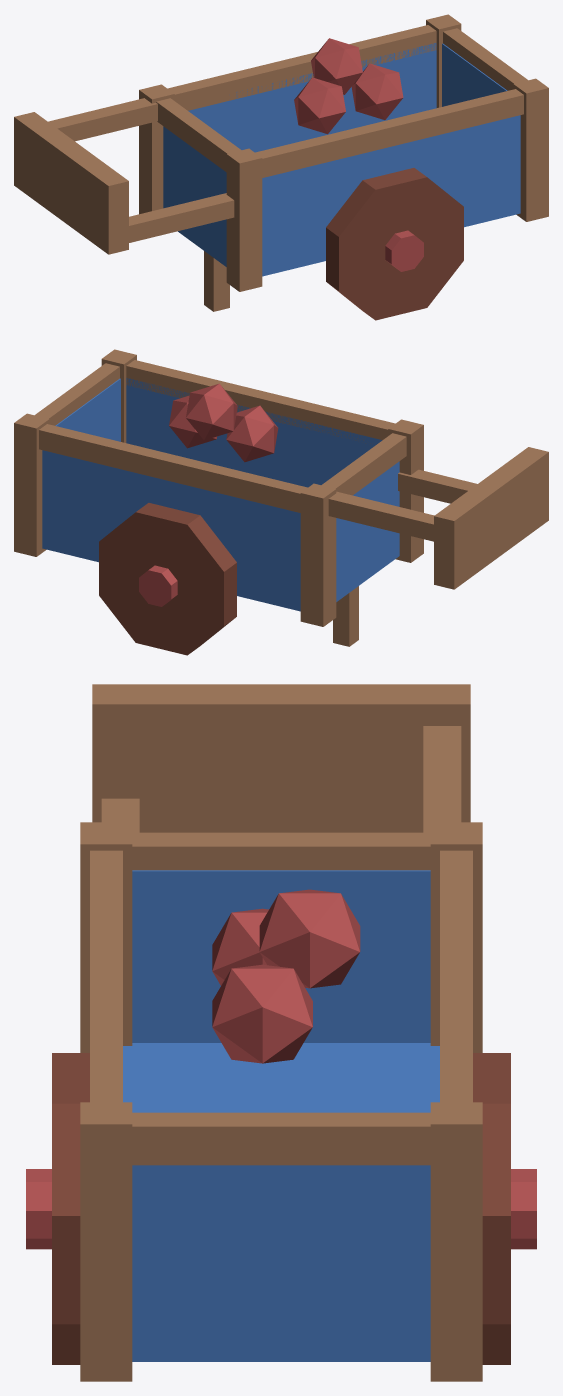
Rendered from cart.glb.
The picture shows the model from 3 angles, top to bottom: view 1: azimuth 30°, elevation 25°; view 2: azimuth 150°, elevation 25°; view 3: azimuth 270°, elevation 25°; orthographic projection. The views are drawn at different scales.
Parts seen in each view (by area): view 1: Cart, Wheels; view 2: Cart, Wheels; view 3: Cart, Wheels.
Part boxes in pixels (x1=…): Cart: x1=14, y1=14, x2=548, y2=311; Wheels: x1=326, y1=168, x2=463, y2=320; Cart: x1=14, y1=349, x2=548, y2=646; Wheels: x1=99, y1=503, x2=236, y2=655; Cart: x1=80, y1=684, x2=482, y2=1381; Wheels: x1=26, y1=1053, x2=536, y2=1364.
Size of the model in its own units: 2.13 by 1.06 by 1.08.
